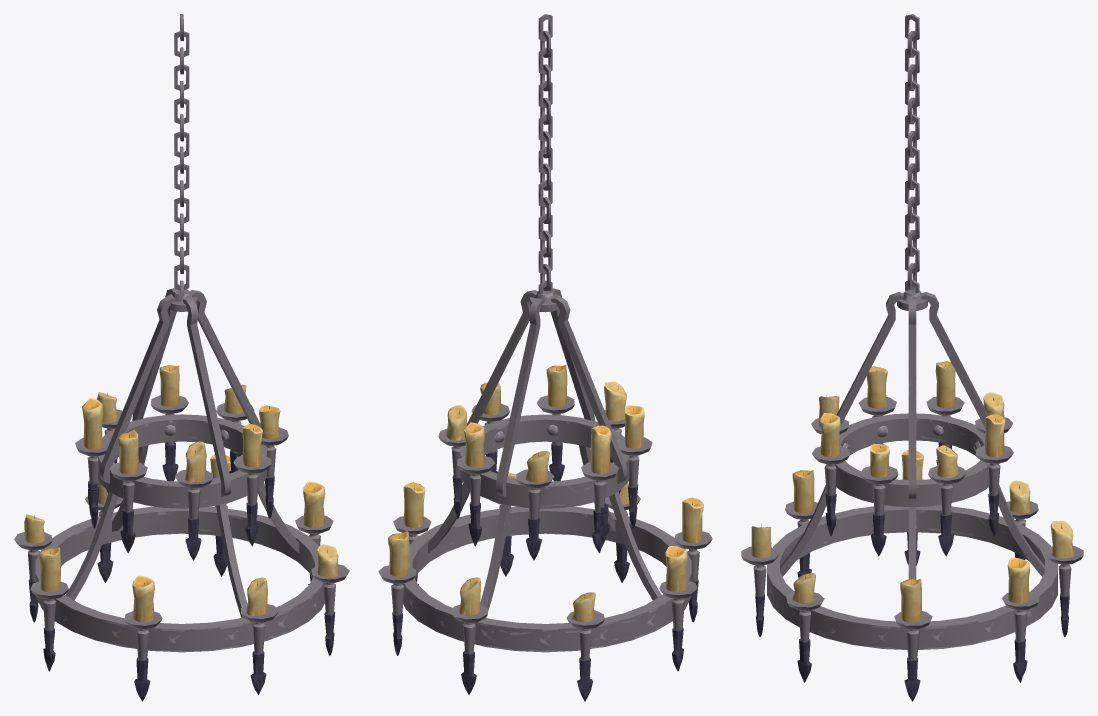
File: Chandelier_Large.gltf
The picture shows the model from 3 angles, left to right: view 1: azimuth 30°, elevation 25°; view 2: azimuth 150°, elevation 25°; view 3: azimuth 270°, elevation 25°; orthographic projection.
Visible parts, largest first — view 1: Chandelier_Large; view 2: Chandelier_Large; view 3: Chandelier_Large.
Part boxes in pixels (x1=…): Chandelier_Large: x1=14, y1=14, x2=349, y2=701; Chandelier_Large: x1=378, y1=14, x2=712, y2=701; Chandelier_Large: x1=741, y1=14, x2=1083, y2=701.
Size of the model in its own units: 1.3 by 2.62 by 1.3.
2 materials, 2 textured.
